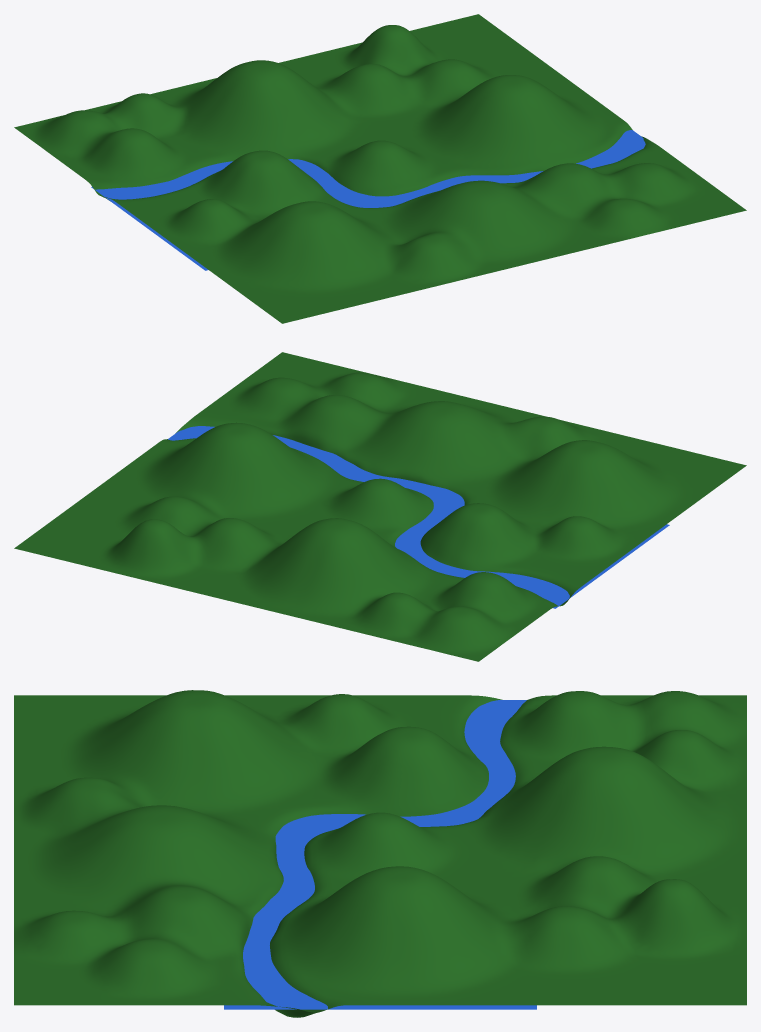
Rendered from Mapa18062025.fbx.
3 renders of one model, top to bottom at view 1: azimuth 30°, elevation 25°; view 2: azimuth 150°, elevation 25°; view 3: azimuth 270°, elevation 25°, orthographic. The views are drawn at different scales.
Visible parts, largest first — view 1: Mapa, Agua; view 2: Mapa, Agua; view 3: Mapa, Agua.
Boxes of the visible parts, x1,y1,x2,y2 form: Mapa: [14, 14, 746, 323]; Agua: [91, 130, 645, 270]; Mapa: [14, 352, 746, 661]; Agua: [168, 426, 669, 608]; Mapa: [14, 690, 746, 1017]; Agua: [224, 700, 536, 1009].
Bounding box in the file's own units: 80235 × 10949 × 80000.
